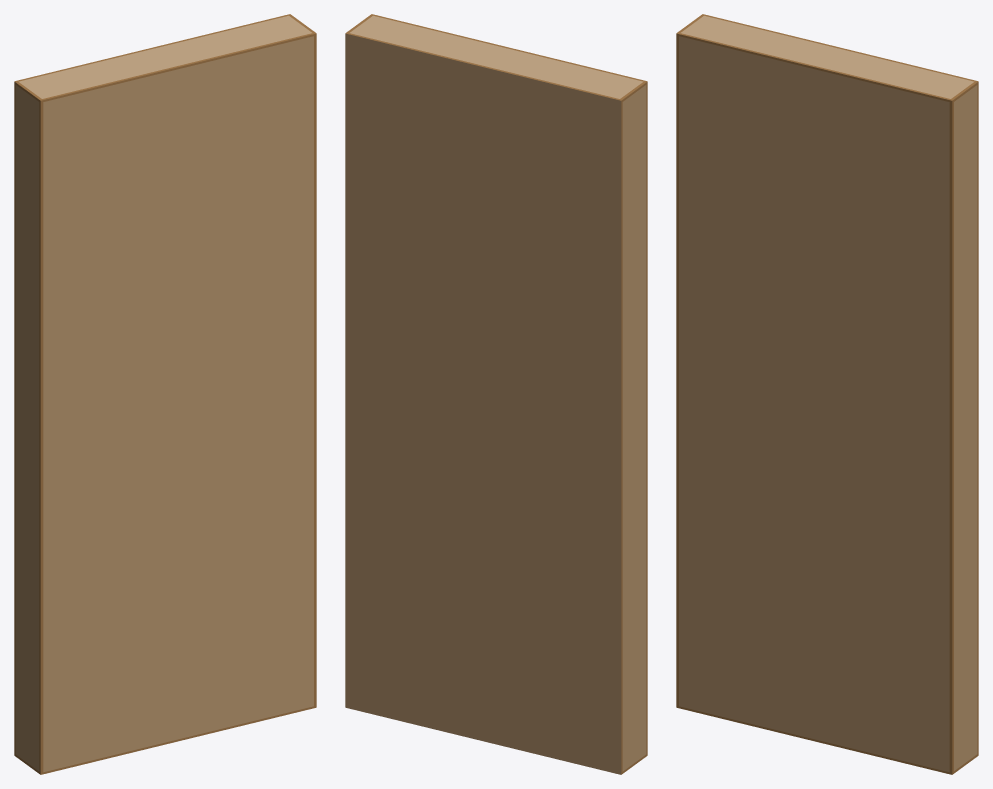
The model's file is Single.fbx.
3 renders of one model, left to right at view 1: azimuth 30°, elevation 25°; view 2: azimuth 150°, elevation 25°; view 3: azimuth 330°, elevation 25°, orthographic.
Visible parts, largest first — view 1: single; view 2: single; view 3: single.
Part boxes in pixels (x1,y1,x2,y2): single: (14,14,316,774); single: (345,14,647,774); single: (676,14,978,774).
Bounding box in the file's own units: 600 × 100 × 1400.
1 material, 1 textured.
